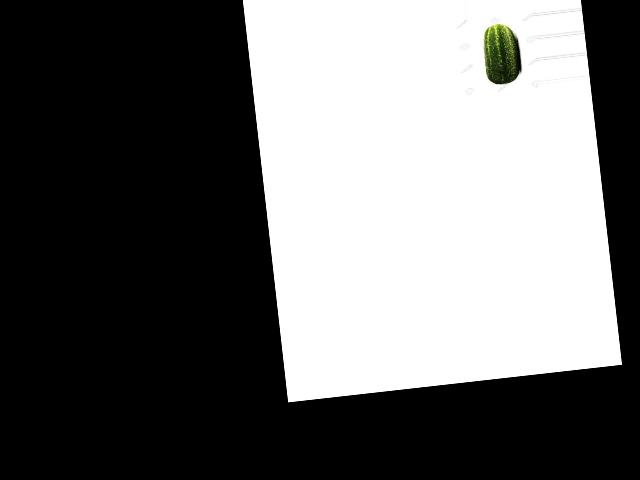cucumber: (481, 22, 522, 86)
